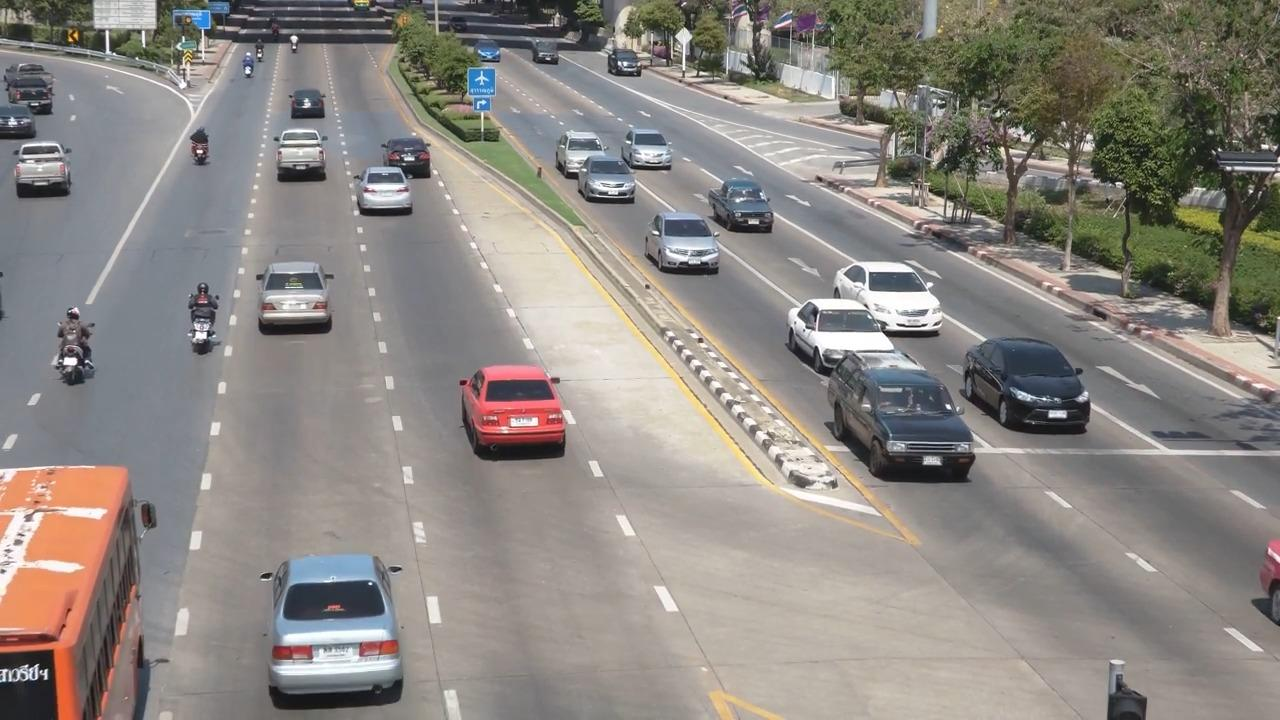CAR: (242, 535, 428, 710), (832, 363, 984, 489), (961, 337, 1097, 445), (462, 362, 584, 482), (772, 289, 909, 380), (826, 250, 955, 341), (250, 253, 345, 347), (635, 206, 723, 278), (9, 123, 77, 201), (267, 126, 334, 196), (703, 175, 779, 236), (616, 123, 685, 183), (348, 165, 413, 224), (1, 54, 56, 111), (384, 132, 441, 184), (575, 157, 633, 208), (551, 122, 611, 165), (282, 81, 334, 120), (600, 47, 649, 80), (525, 37, 569, 69)
HGV_BUS: (0, 449, 156, 720)
MOTOR: (45, 283, 115, 400), (166, 276, 233, 370), (174, 125, 220, 176), (283, 28, 313, 69), (235, 51, 264, 87)
